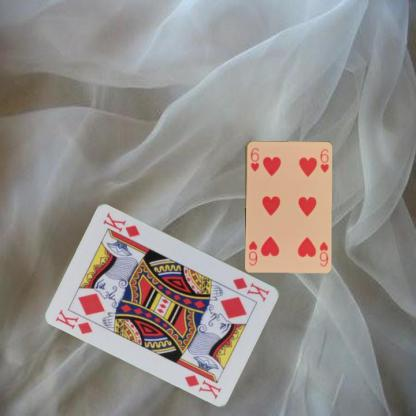6h: (248, 145, 260, 173), (317, 239, 329, 267)
Kd: (229, 274, 271, 304), (53, 307, 94, 337)
